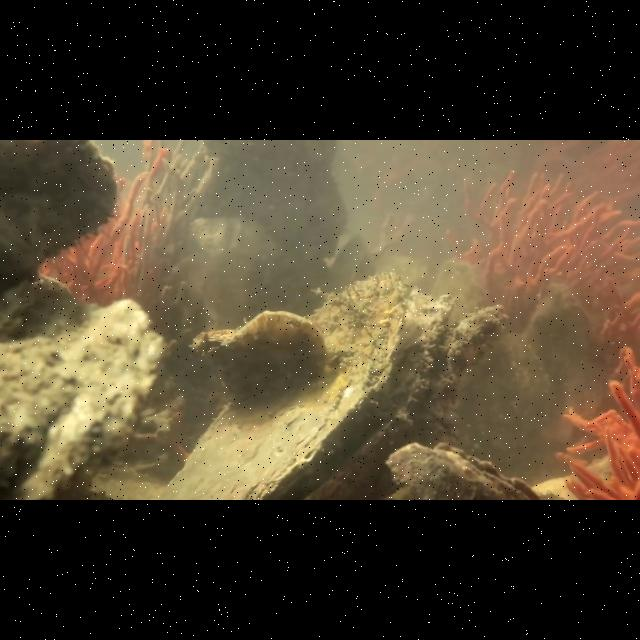Oyster-Closed: (5, 275, 170, 498), (387, 443, 564, 498)
Oyster-Open: (158, 264, 510, 495)
